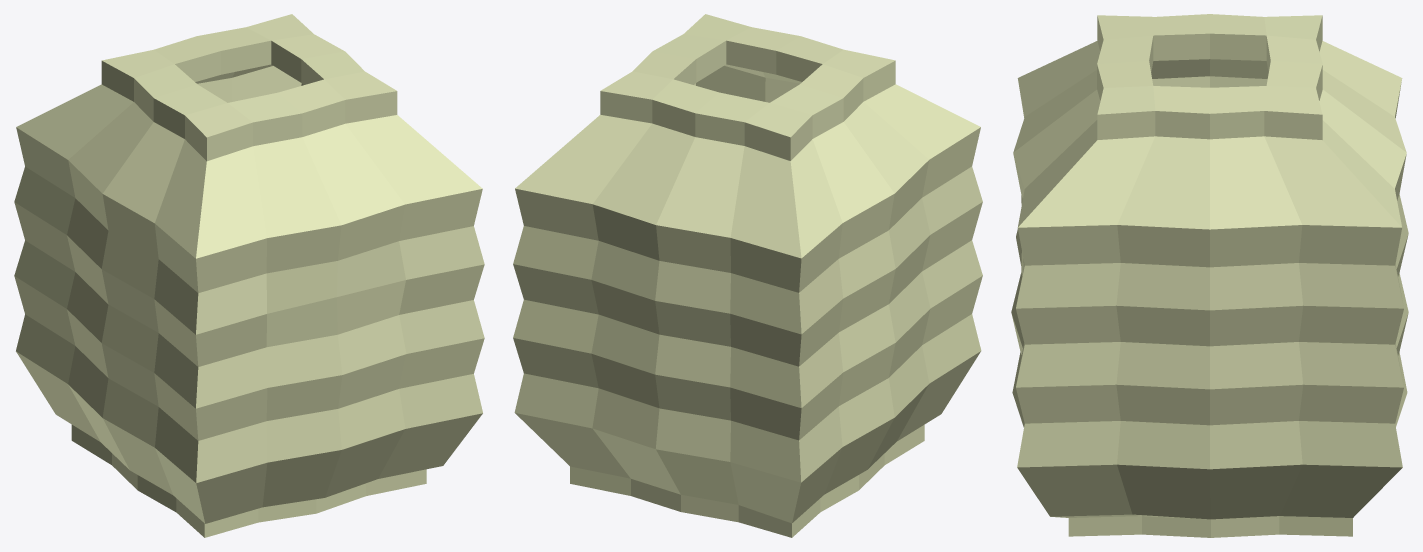
Rendered from Lantern.fbx.
3 renders of one model, left to right at view 1: azimuth 30°, elevation 25°; view 2: azimuth 150°, elevation 25°; view 3: azimuth 270°, elevation 25°, orthographic. The views are drawn at different scales.
Parts seen in each view (by area): view 1: Cube; view 2: Cube; view 3: Cube.
Boxes of the visible parts, x1=… form: Cube: x1=14, y1=14, x2=484, y2=537; Cube: x1=513, y1=14, x2=982, y2=537; Cube: x1=1011, y1=14, x2=1408, y2=537.
Size of the model in its own units: 209 by 268 by 228.
